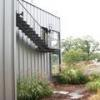stairs: (15, 10, 61, 53)
